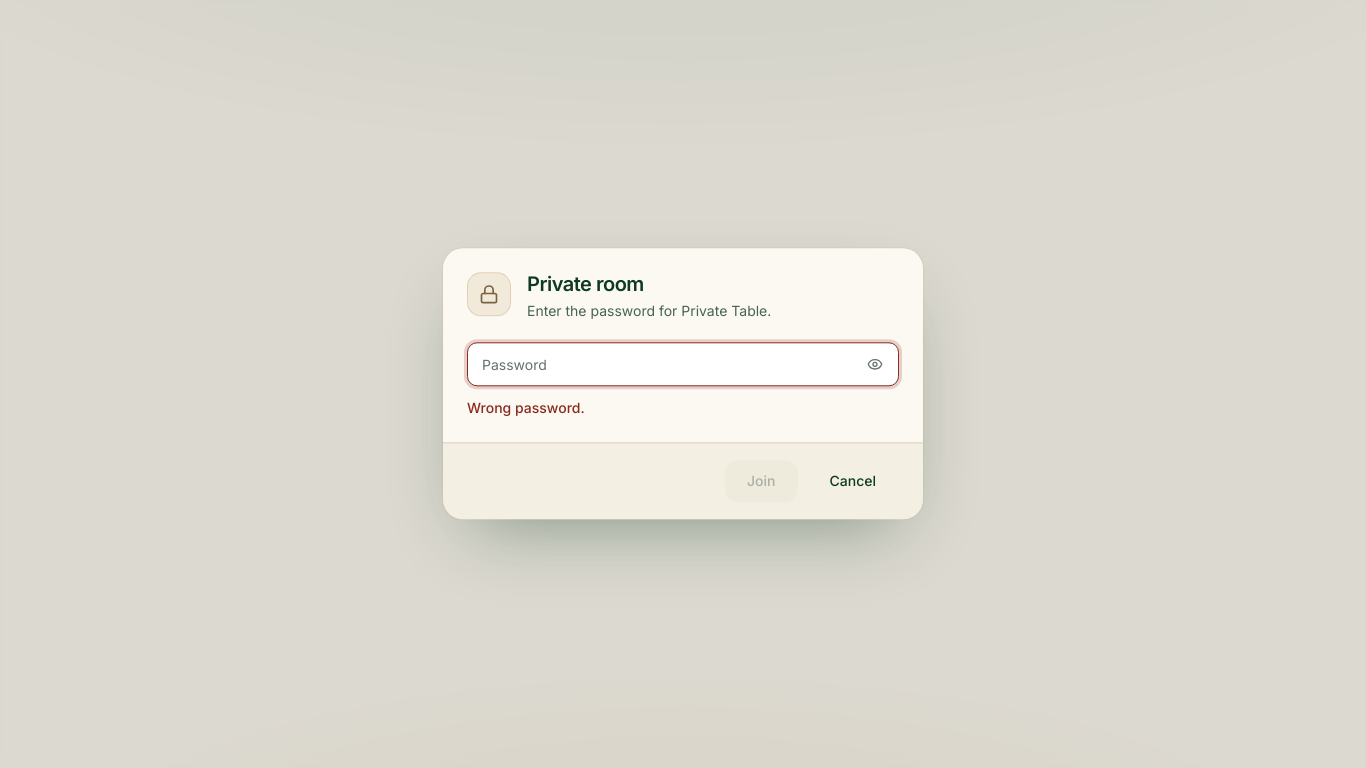
Scenario: PasswordPromptDialog › hides the error as soon as the player edits the password
Expected: the message "Wrong password." is shown, [467,400,585,417]
Type "x" into the password field with test id "password-prompt-input".
click(683, 365); type("x")  # box [467,343,899,387]
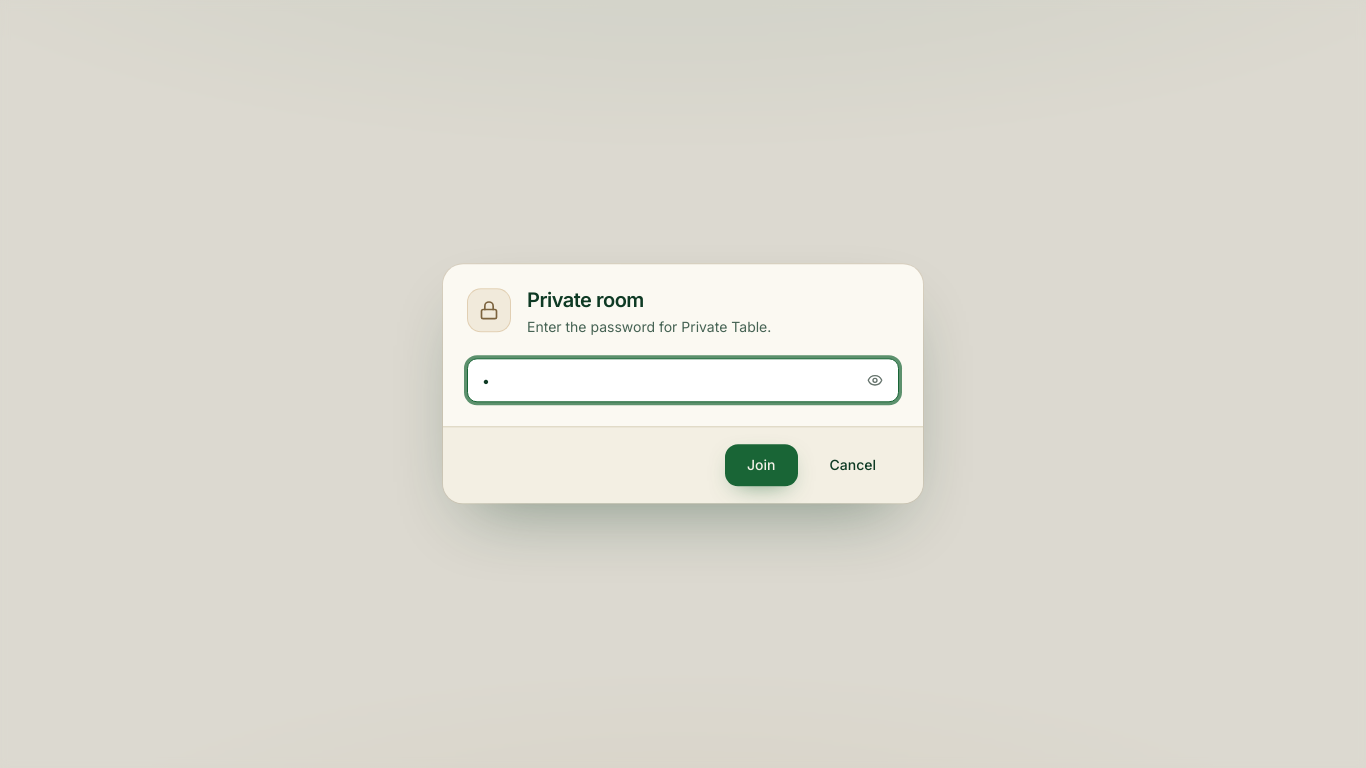
Expected: the message with test id "password-prompt-error" is gone
